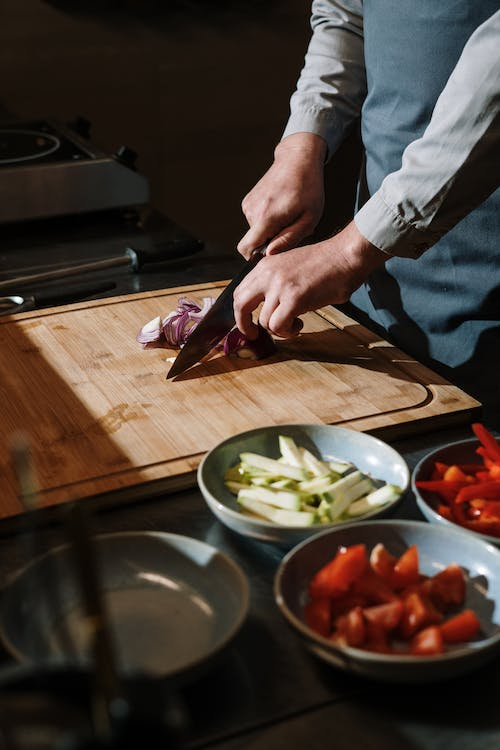knife: (160, 245, 268, 384)
